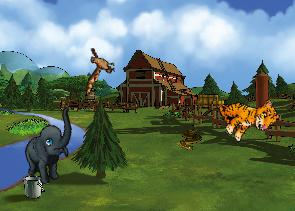eagle: (76, 44, 119, 96)
elephant: (15, 106, 86, 187)
tiger: (213, 82, 282, 148)
